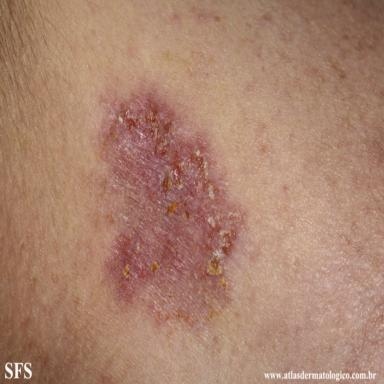Hailey-Hailey-Disease: (93, 82, 249, 335)
